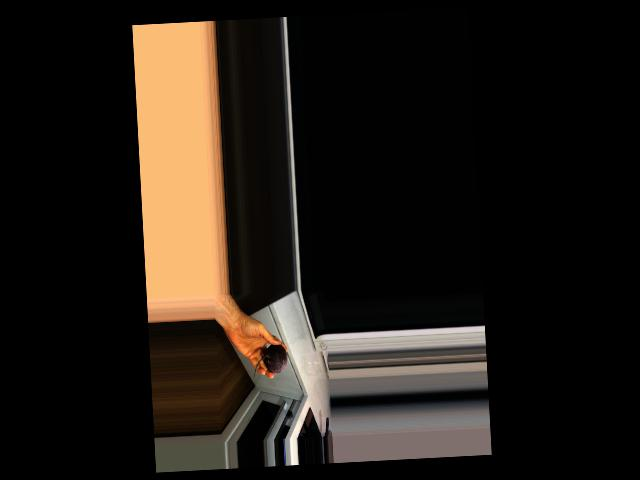beet: (252, 344, 288, 377)
